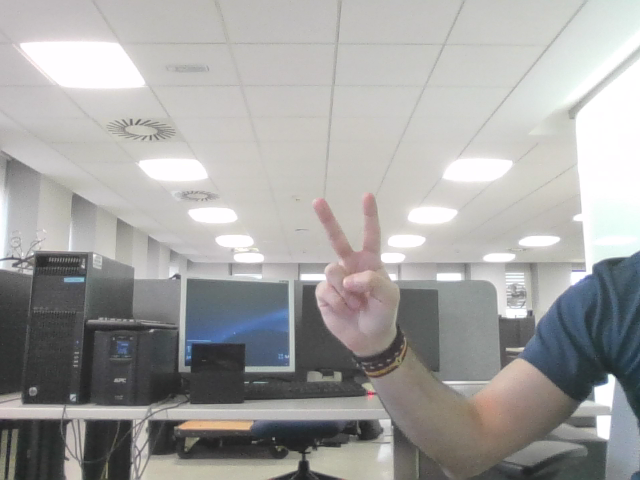2Dedos: (322, 206, 385, 314)
